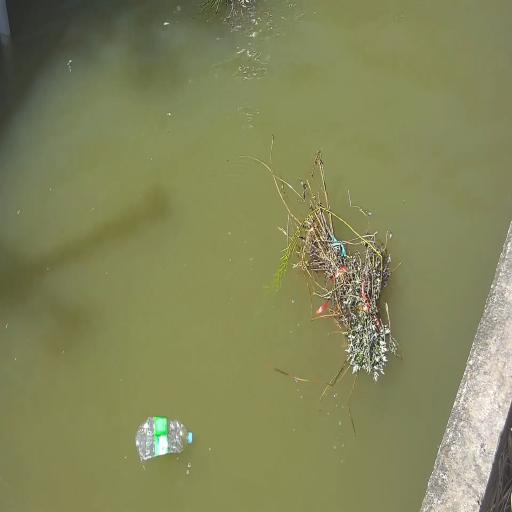plastic: (136, 417, 193, 460), (188, 432, 193, 444)
twig: (247, 136, 401, 396), (201, 0, 244, 14)
